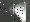person: (11, 4, 26, 22)
